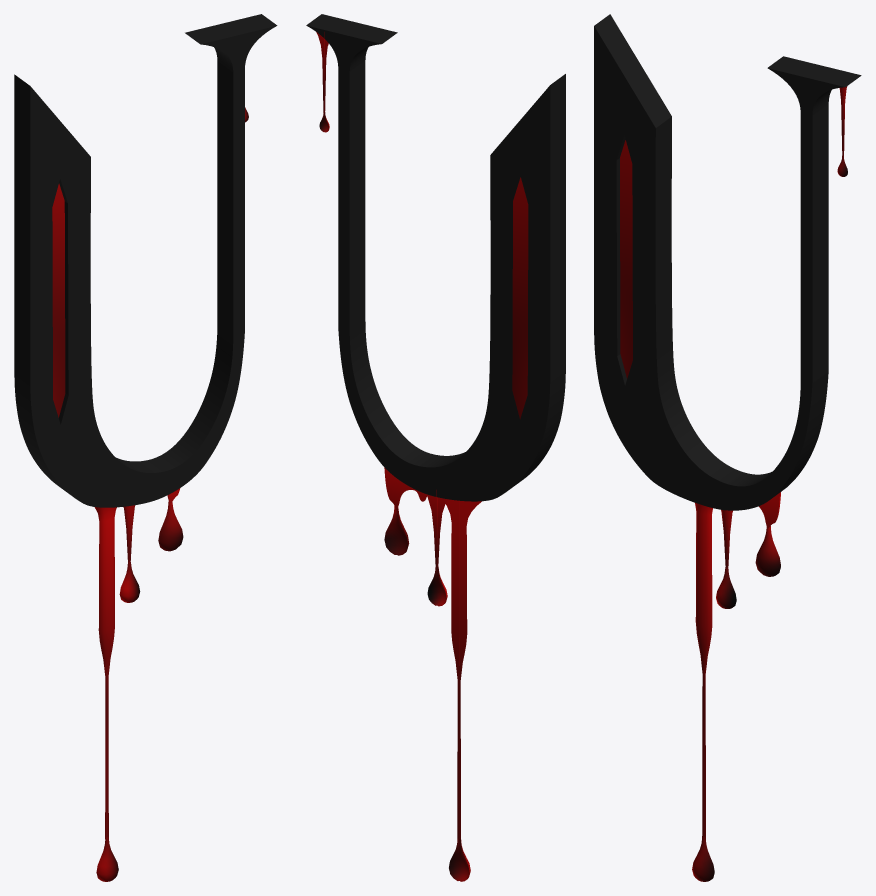
3 renders of one model, left to right at view 1: azimuth 30°, elevation 25°; view 2: azimuth 150°, elevation 25°; view 3: azimuth 330°, elevation 25°, orthographic. The views are drawn at different scales.
Parts seen in each view (by area): view 1: U, Blood_044, U_Element, Blood_034, Blood_033; view 2: U, Blood_044, U_Element, Blood_033, Blood_034; view 3: U, Blood_044, U_Element, Blood_033, Blood_034.
Part boxes in pixels (x1,y1,x2,y2): U: (14, 14, 277, 507); Blood_044: (94, 507, 118, 881); U_Element: (52, 183, 65, 417); Blood_034: (119, 505, 140, 602); Blood_033: (158, 488, 183, 551); U: (306, 14, 565, 501); Blood_044: (445, 499, 481, 881); U_Element: (512, 177, 528, 419); Blood_033: (384, 467, 426, 555); Blood_034: (427, 490, 447, 606); U: (594, 14, 861, 510); Blood_044: (692, 503, 714, 881); U_Element: (620, 140, 632, 378); Blood_033: (755, 492, 780, 576); Blood_034: (716, 510, 736, 608).
Size of the model in its own units: 44.9 by 144 by 5.03.
2 materials, 1 textured.
